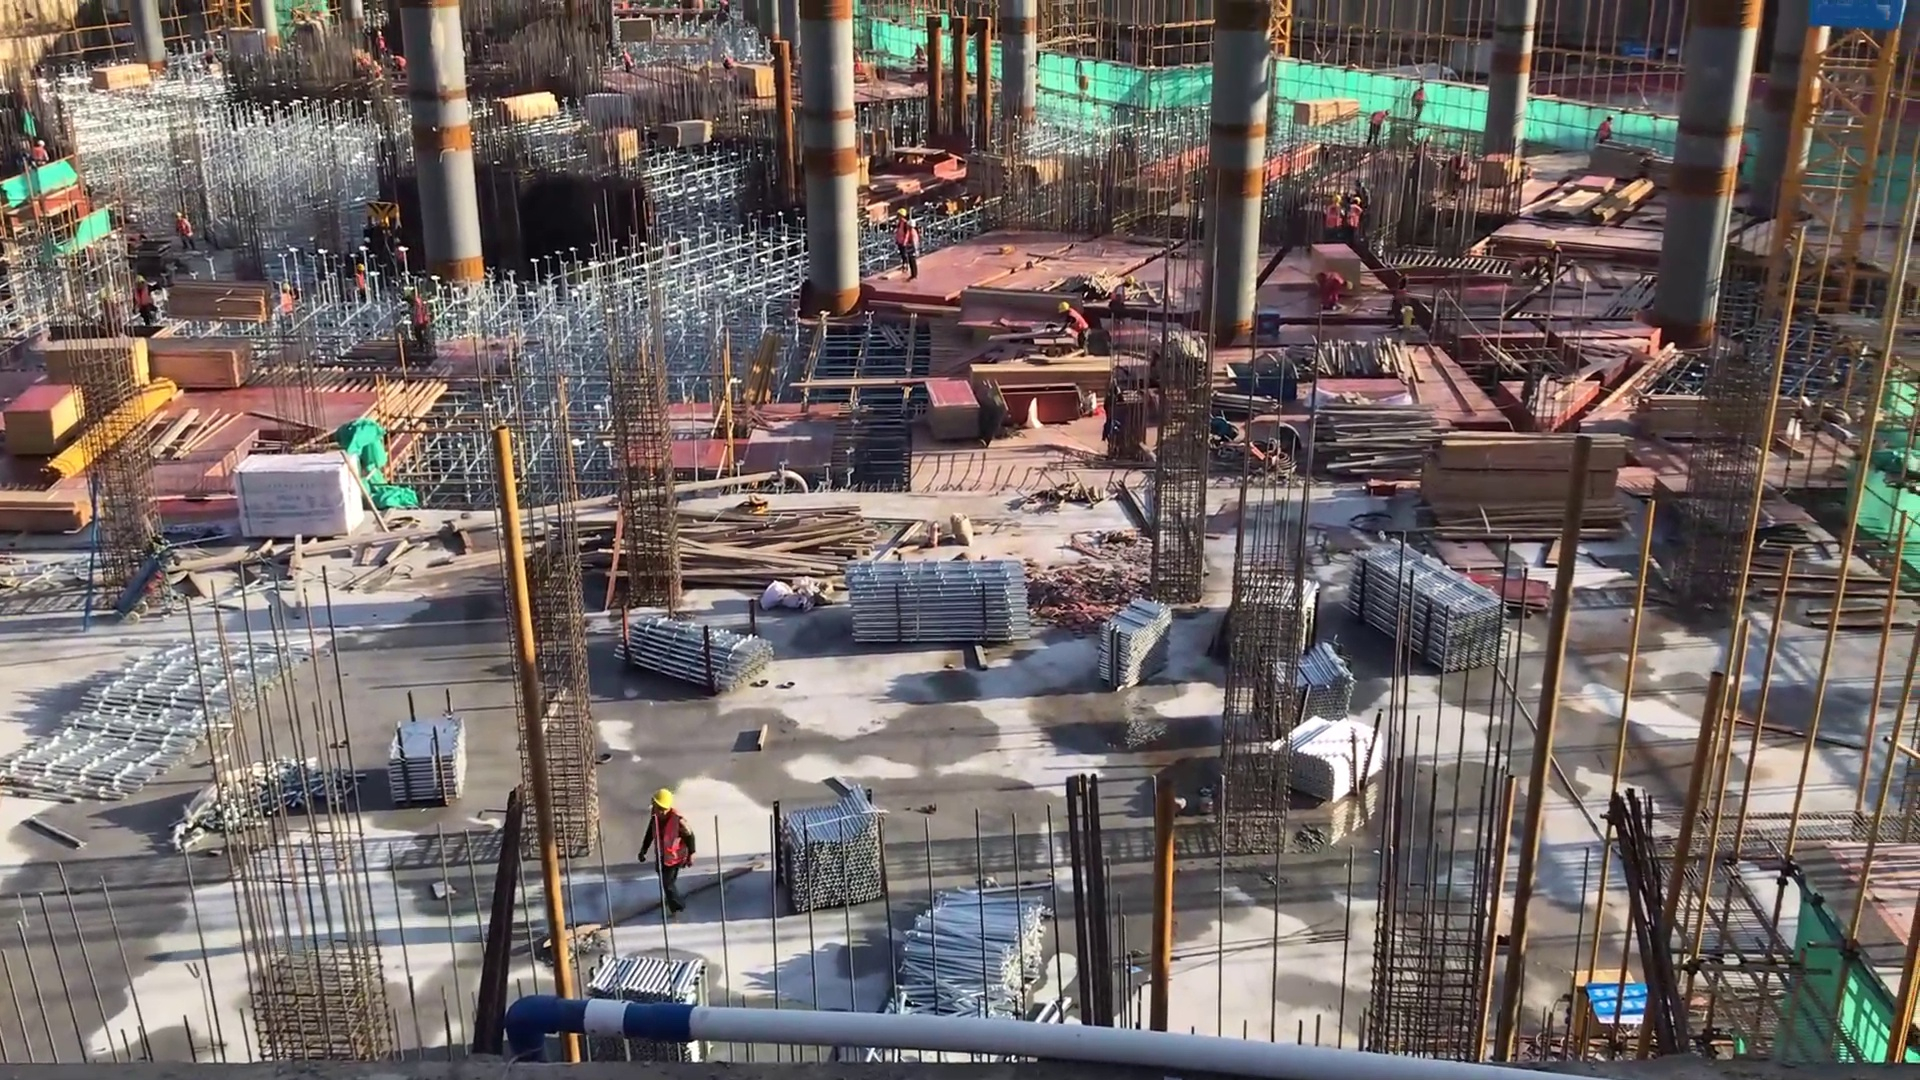board: (41, 334, 150, 410), (4, 375, 88, 463), (1457, 568, 1559, 628), (928, 375, 979, 444), (738, 63, 776, 101)
helmet: (652, 787, 675, 816), (1058, 297, 1072, 316), (1122, 272, 1136, 290), (1545, 235, 1559, 253), (280, 281, 295, 294), (173, 209, 187, 222), (1327, 194, 1343, 205), (353, 261, 367, 273), (905, 218, 918, 230), (33, 139, 47, 148), (1344, 281, 1354, 292), (895, 208, 909, 216)
hook: (1226, 357, 1301, 412)
person: (633, 784, 701, 916), (1052, 293, 1095, 369), (1106, 270, 1137, 336), (130, 275, 165, 331), (1317, 270, 1354, 318), (1593, 108, 1618, 162), (277, 279, 304, 328), (408, 291, 429, 353), (1365, 103, 1391, 152), (28, 131, 52, 183), (1505, 256, 1551, 282), (173, 208, 196, 253), (904, 218, 919, 285), (1545, 232, 1563, 289), (1345, 194, 1364, 243), (894, 206, 909, 268), (354, 257, 371, 309), (1326, 192, 1344, 244), (1413, 79, 1430, 125), (388, 50, 408, 80), (618, 44, 636, 76), (375, 26, 389, 63)
scaffold: (1351, 542, 1516, 694), (897, 881, 1050, 1037), (848, 562, 1025, 651), (765, 781, 884, 913), (612, 613, 779, 694), (1088, 596, 1181, 703), (1263, 638, 1352, 731)
slogan: (1575, 976, 1675, 1039)
vest: (647, 810, 698, 879), (1065, 307, 1090, 336), (131, 282, 154, 310), (1326, 205, 1344, 232), (904, 228, 919, 260), (1347, 204, 1363, 231)
wood: (1413, 425, 1625, 556), (678, 505, 877, 589), (1302, 399, 1437, 477), (1639, 388, 1795, 450), (140, 335, 254, 397), (165, 277, 272, 332), (972, 361, 1118, 400), (1, 487, 94, 541), (492, 87, 566, 130), (84, 61, 155, 104), (1290, 91, 1356, 133), (659, 115, 717, 152)
